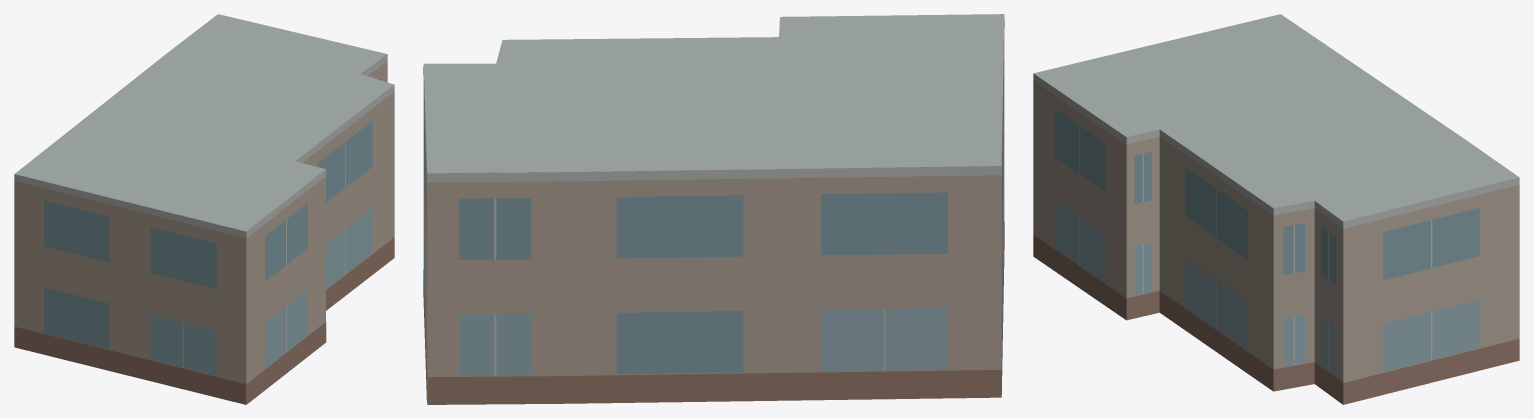
File: survey-upis-32989582.glb
The picture shows the model from 3 angles, left to right: view 1: azimuth 30°, elevation 25°; view 2: azimuth 150°, elevation 25°; view 3: azimuth 270°, elevation 25°; orthographic projection. The views are drawn at different scales.
Parts seen in each view (by area): view 1: survey-upis-32989582.tmp; view 2: survey-upis-32989582.tmp; view 3: survey-upis-32989582.tmp.
Part boxes in pixels (<box>): survey-upis-32989582.tmp: <box>14,14,394,404</box>; survey-upis-32989582.tmp: <box>423,14,1004,404</box>; survey-upis-32989582.tmp: <box>1033,14,1519,404</box>.
Size of the model in its own units: 14.85 by 6.1 by 14.69.
